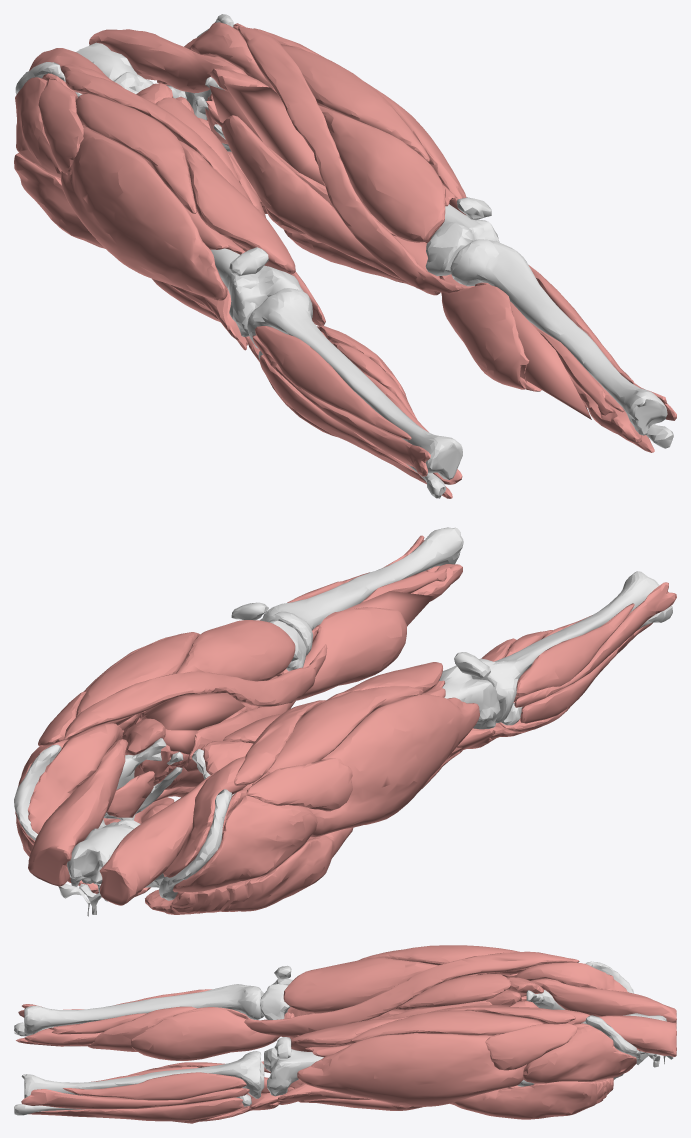
File: FinalForm10.glb
3 renders of one model, top to bottom at view 1: azimuth 30°, elevation 25°; view 2: azimuth 150°, elevation 25°; view 3: azimuth 270°, elevation 25°, orthographic. The views are drawn at different scales.
Visible parts, largest first — view 1: MC_bodycoil_vetted_L_tibialis_anterior; view 2: MC_bodycoil_vetted_L_tibialis_anterior; view 3: MC_bodycoil_vetted_L_tibialis_anterior.
Part boxes in pixels (bbox=[...]): MC_bodycoil_vetted_L_tibialis_anterior: bbox=[14, 14, 676, 498]; MC_bodycoil_vetted_L_tibialis_anterior: bbox=[14, 527, 676, 916]; MC_bodycoil_vetted_L_tibialis_anterior: bbox=[14, 945, 676, 1123].
Size of the model in its own units: 3.73 by 1.79 by 10.
